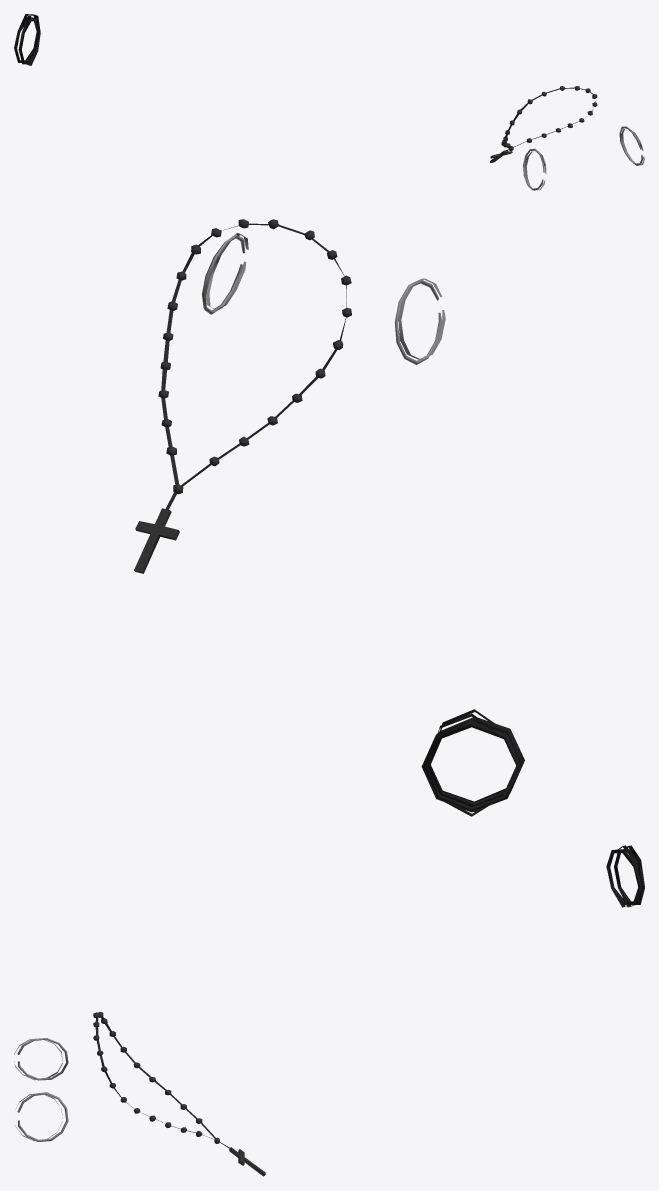
Rendered from accs_004_u.obj.
3 renders of one model, top to bottom at view 1: azimuth 30°, elevation 25°; view 2: azimuth 150°, elevation 25°; view 3: azimuth 270°, elevation 25°, orthographic. The views are drawn at different scales.
Parts seen in each view (by area): view 1: accs_004_u_high_1, accs_004_u_med_1; view 2: accs_004_u_high_1, accs_004_u_med_1; view 3: accs_004_u_high_1, accs_004_u_med_1.
Boxes of the visible parts, x1,y1,x2,y2 form: accs_004_u_high_1: [14, 17, 643, 190]; accs_004_u_med_1: [18, 14, 644, 190]; accs_004_u_high_1: [134, 219, 524, 812]; accs_004_u_med_1: [163, 228, 516, 816]; accs_004_u_high_1: [17, 849, 644, 1176]; accs_004_u_med_1: [14, 845, 644, 1163].
Bounding box in the file's own units: 0.5518 × 0.1724 × 0.6382.
